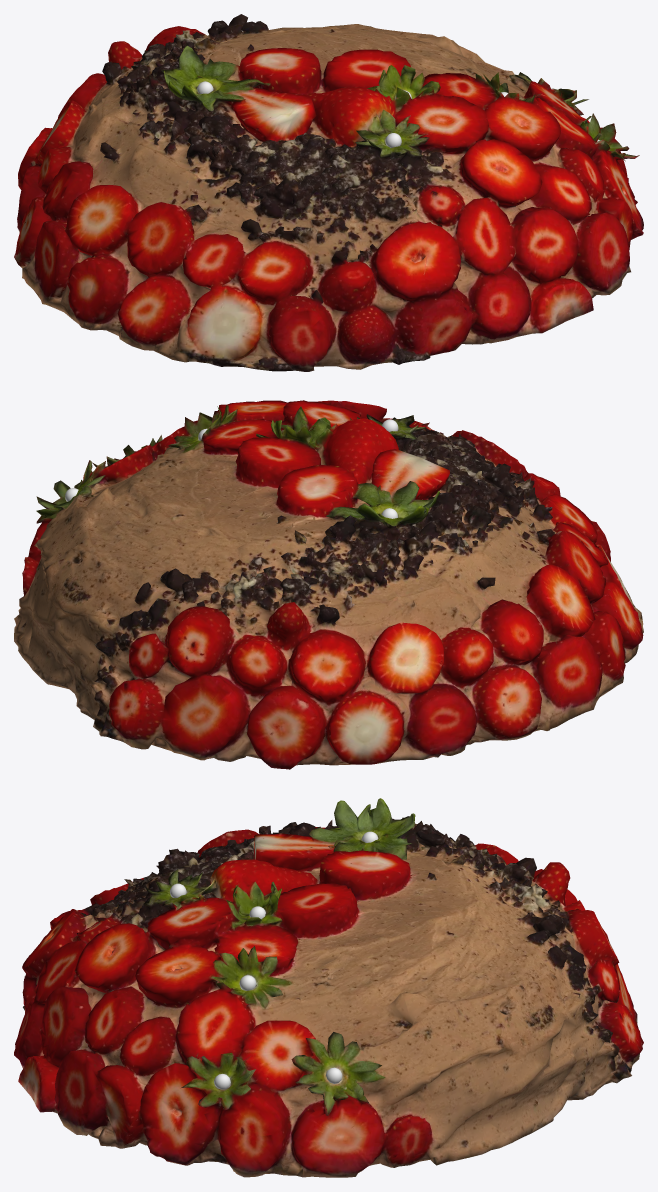
File: strawberry_chocolate_cake_4k-transformed.glb
3 views of the same model, one above another, from view 1: azimuth 30°, elevation 25°; view 2: azimuth 150°, elevation 25°; view 3: azimuth 270°, elevation 25° (orthographic). The views are drawn at different scales.
Visible parts, largest first — view 1: strawberry_chocolate_cake; view 2: strawberry_chocolate_cake; view 3: strawberry_chocolate_cake.
Part boxes in pixels (<box>): strawberry_chocolate_cake: <box>14,14,643,371</box>; strawberry_chocolate_cake: <box>14,400,643,769</box>; strawberry_chocolate_cake: <box>14,798,643,1177</box>.
Bounding box in the file's own units: 0.2443 × 0.0792 × 0.2403.
Materials: 1 (1 with a texture image).
